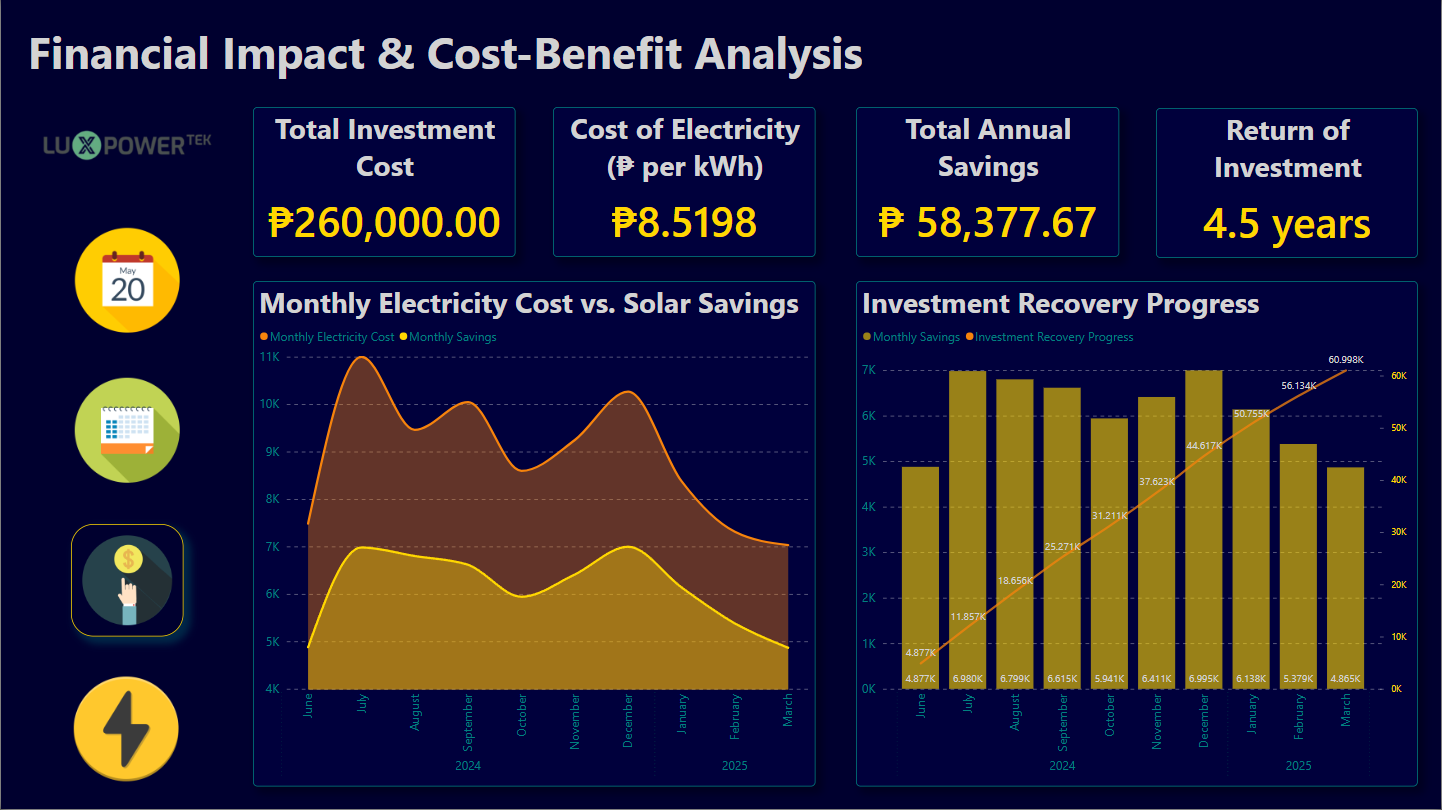

What the dashboard file says about the page in this screenshot:
{"tool":"powerbi","page":{"name":"Financial Impact & Cost-Benefit Analysis","canvas":[1920,1080],"ordinal":3},"visuals":[{"type":"textbox","box":[30,25,1300,90],"z":0},{"type":"card","title":"Total Investment Cost","fields":{"Values":["luxpower._Total_Investment_Cost"]},"box":[336.4,144.6,350,200],"z":1000},{"type":"image","box":[0,143.6,335.9,100.1],"z":2000},{"type":"card","title":"Cost of Electricity (₱ per kWh)","fields":{"Values":["luxpower._Cost_of_Electricity"]},"box":[736.4,144.6,350,200],"z":3000},{"type":"card","title":"Return of Investment","fields":{"Values":["luxpower._ROI_BreakEven_Years_Text"]},"box":[1539.8,145.3,349.4,199.6],"z":4000},{"type":"card","title":"Total Annual Savings","fields":{"Values":["luxpower._Annual_Electricity_Savings_Text"]},"box":[1140.6,143.9,350.8,199.6],"z":5000},{"type":"image","box":[93.5,500,150.1,150.1],"z":6000},{"type":"image","box":[93.5,300,150.1,150.1],"z":7000},{"type":"image","box":[92.5,896.9,149.7,152.7],"z":8000},{"type":"image","box":[93.5,700,150.1,150.1],"z":9000},{"type":"areaChart","title":"Monthly Electricity Cost vs. Solar Savings","fields":{"Category":["luxpower.MonthYear.Variation.Date Hierarchy.Year","luxpower.MonthYear.Variation.Date Hierarchy.Month"],"Y":["luxpower._Monthly_Electricity_Cost_New","luxpower._Monthly_Savings_New"]},"box":[336.1,375.8,750.1,673.8],"z":10000},{"type":"lineStackedColumnComboChart","title":"Investment Recovery Progress","fields":{"Category":["luxpower.MonthYear.Variation.Date Hierarchy.Year","luxpower.MonthYear.Variation.Date Hierarchy.Month"],"Y":["luxpower._Monthly_Savings_New"],"Y2":["luxpower._Investment_Recovery_Progress"]},"box":[1140.6,375.8,748.6,673.8],"z":11000}]}

Visuals, with their boxes in screenshot pixels (x1, y1, x2, y2), scaled from the page's 1920x1080 canvas onto the 1442x810 screenshot:
textbox: box=[23, 19, 999, 86]
"Total Investment Cost" card: box=[253, 108, 516, 258]
image: box=[0, 108, 252, 183]
"Cost of Electricity (₱ per kWh)" card: box=[553, 108, 816, 258]
"Return of Investment" card: box=[1156, 109, 1419, 259]
"Total Annual Savings" card: box=[857, 108, 1120, 258]
image: box=[70, 375, 183, 488]
image: box=[70, 225, 183, 338]
image: box=[69, 673, 182, 787]
image: box=[70, 525, 183, 638]
"Monthly Electricity Cost vs. Solar Savings" areaChart: box=[252, 282, 816, 787]
"Investment Recovery Progress" lineStackedColumnComboChart: box=[857, 282, 1419, 787]
